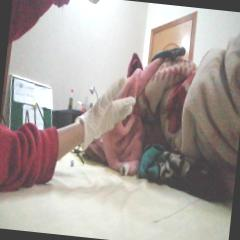gloved: (78, 71, 138, 145)
